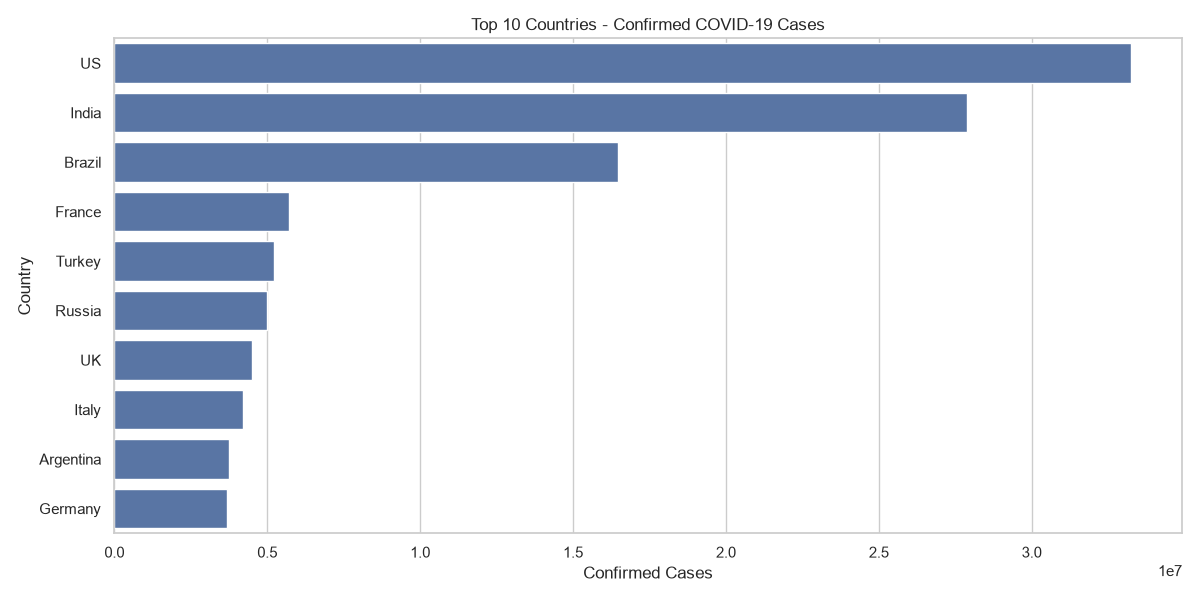

What the dashboard file says about the page in this screenshot:
{"tool":"powerbi","page":{"name":"Create Top 10 Countries by COVID-19 Cases","canvas":[1920,1080],"ordinal":1},"visuals":[{"type":"clusteredBarChart","fields":{"Category":["country_summary.Country/Region"],"Y":["Sum(country_summary.Confirmed)"]},"box":[10,0,1202.5,927.5],"z":0}]}

Visuals, with their boxes on the page's 1920x1080 design canvas (x1, y1, x2, y2). These are canvas units, not pixel positions in the 1200x600 screenshot, which may show the page scaled, cropped or inside an application window:
clusteredBarChart - country_summary.Country/Region x Sum(country_summary.Confirmed): locate(10, 0, 1212, 928)
